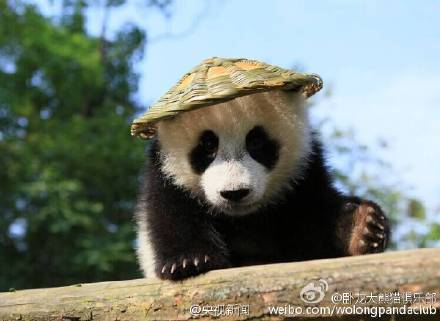panda: (132, 54, 392, 285)
